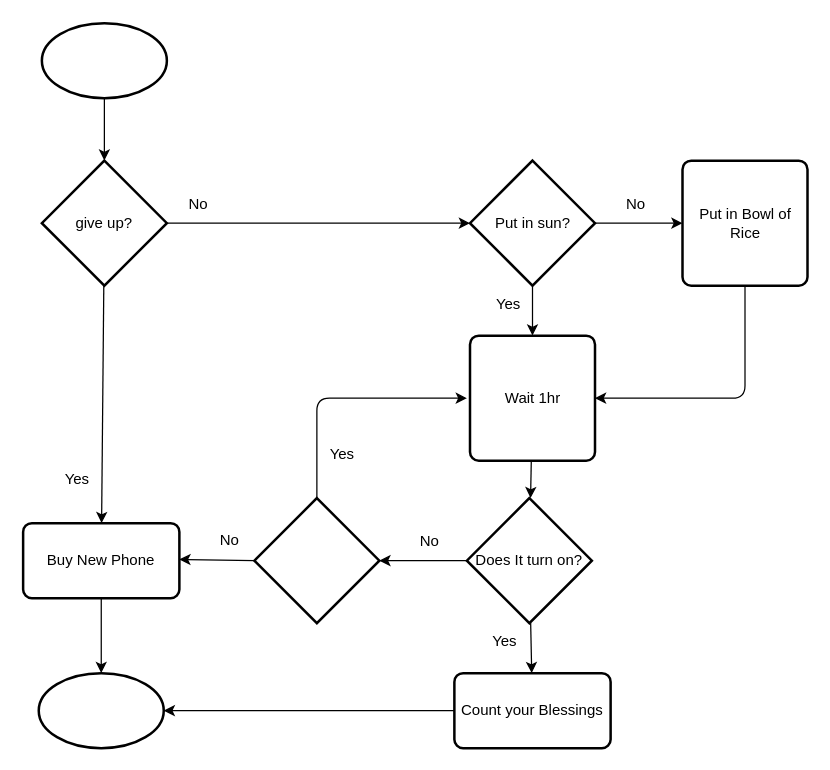
Some shapes in this 830 by 770 pixel diagram are drawn without their labels. Here are the shapes that lost their labels. From the top down, the centre of each, then its label:
At point (104, 60): "Start".
At point (316, 560): "Wait longer?".
At point (100, 710): "End".
